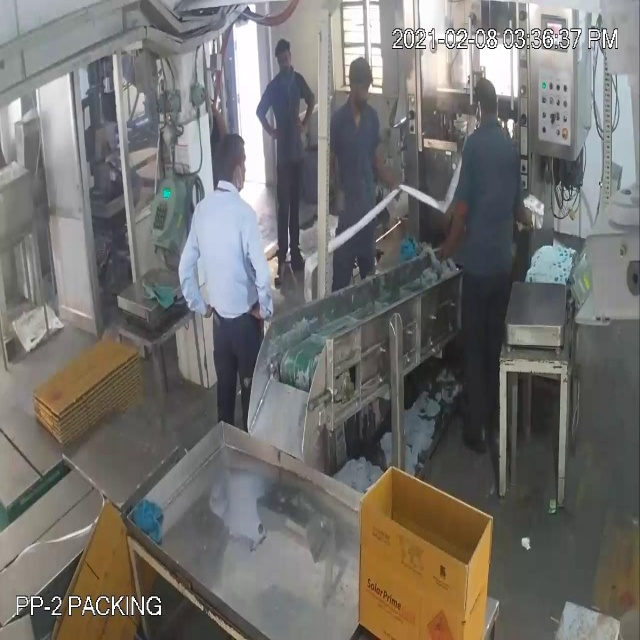Sin_guantes: (430, 178, 486, 285), (238, 209, 281, 341), (174, 224, 209, 327), (368, 125, 397, 201), (253, 89, 281, 153), (297, 70, 318, 142)
